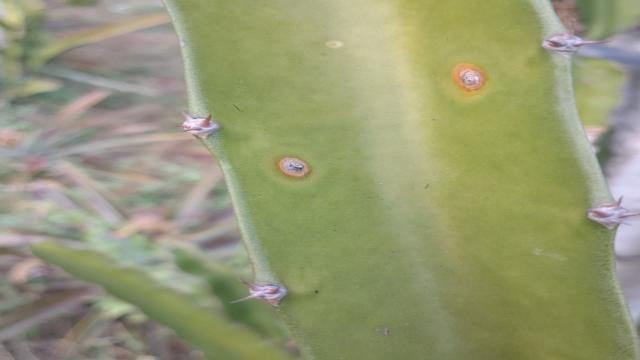stemcanker: (443, 55, 497, 102), (271, 154, 319, 184)
